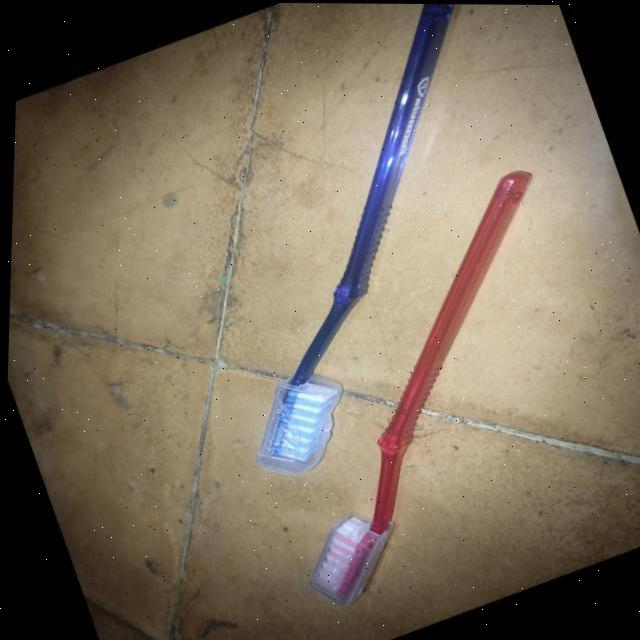toothbrush: (306, 149, 546, 619), (245, 2, 463, 486)
